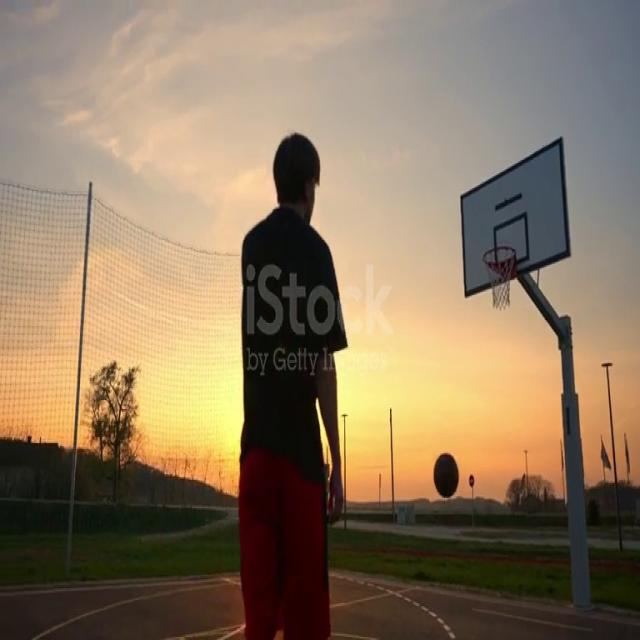ball: (433, 452, 460, 499)
